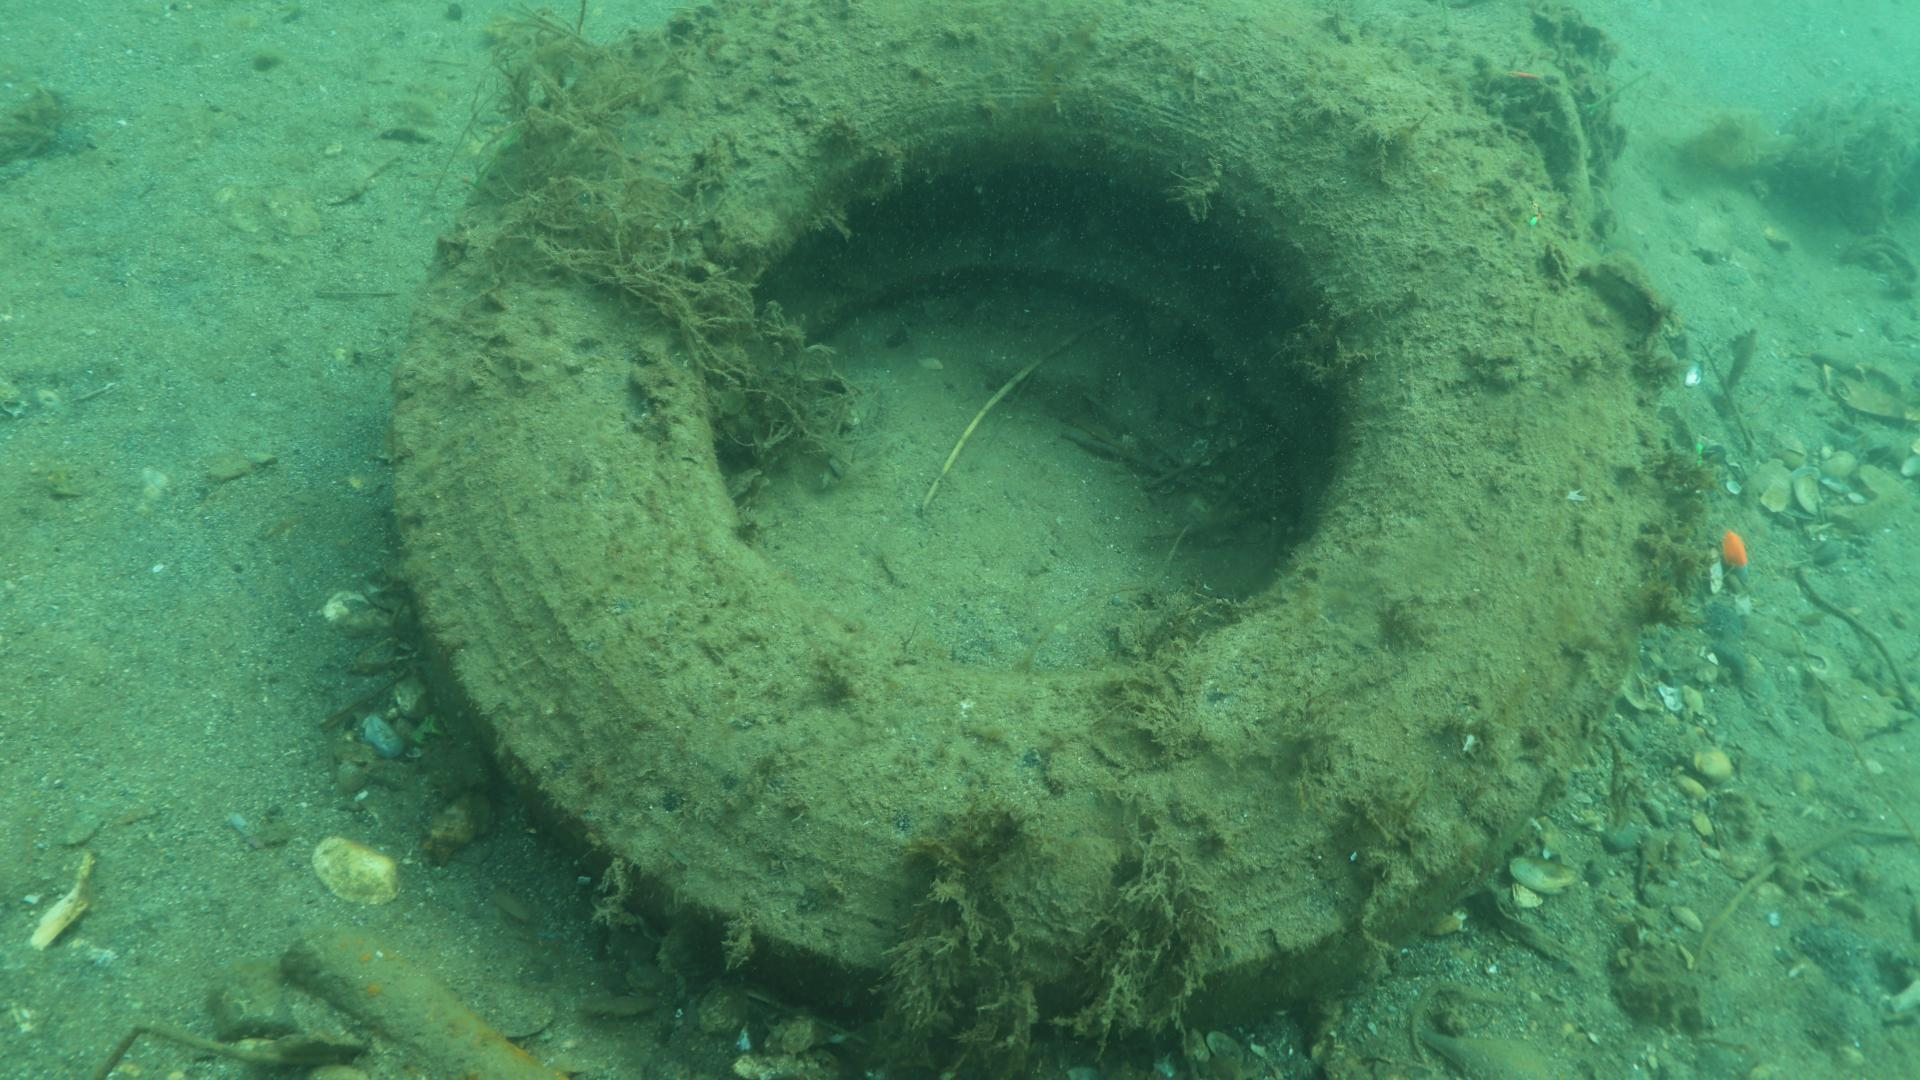tire: (386, 0, 1644, 1040)
